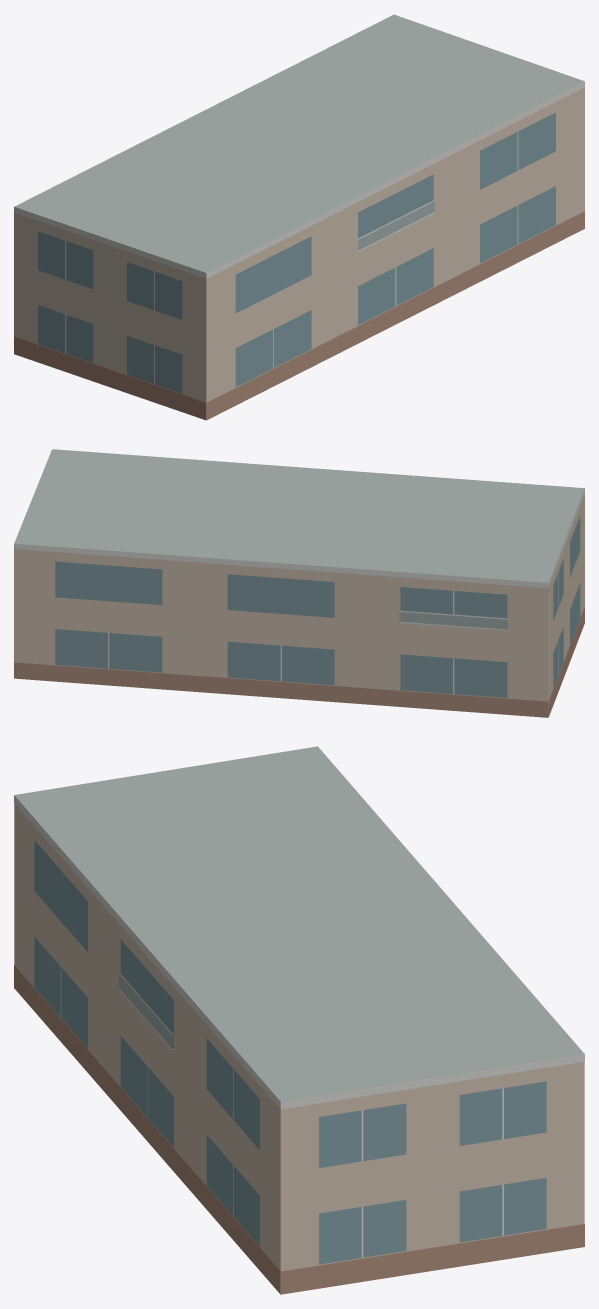
The model's file is survey-upis-32660190.glb.
3 renders of one model, top to bottom at view 1: azimuth 30°, elevation 25°; view 2: azimuth 150°, elevation 25°; view 3: azimuth 270°, elevation 25°, orthographic. The views are drawn at different scales.
Parts seen in each view (by area): view 1: survey-upis-32660190.tmp; view 2: survey-upis-32660190.tmp; view 3: survey-upis-32660190.tmp.
Part boxes in pixels (x1,y1,x2,y2): survey-upis-32660190.tmp: (14,14,584,420); survey-upis-32660190.tmp: (14,449,584,717); survey-upis-32660190.tmp: (14,746,584,1294).
Size of the model in its own units: 24.11 by 6.1 by 16.36.
